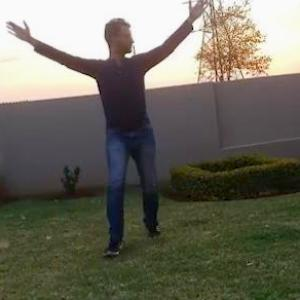takeoff: (4, 2, 193, 249)
